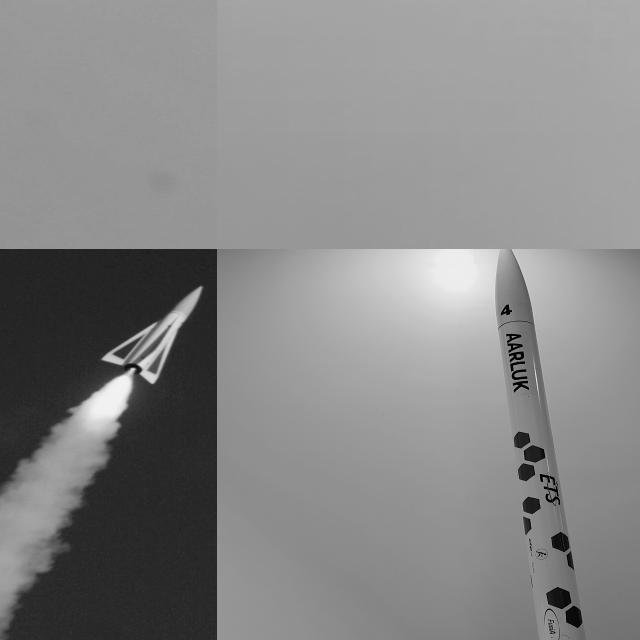Rocket: (495, 249, 587, 640), (100, 285, 203, 385)
